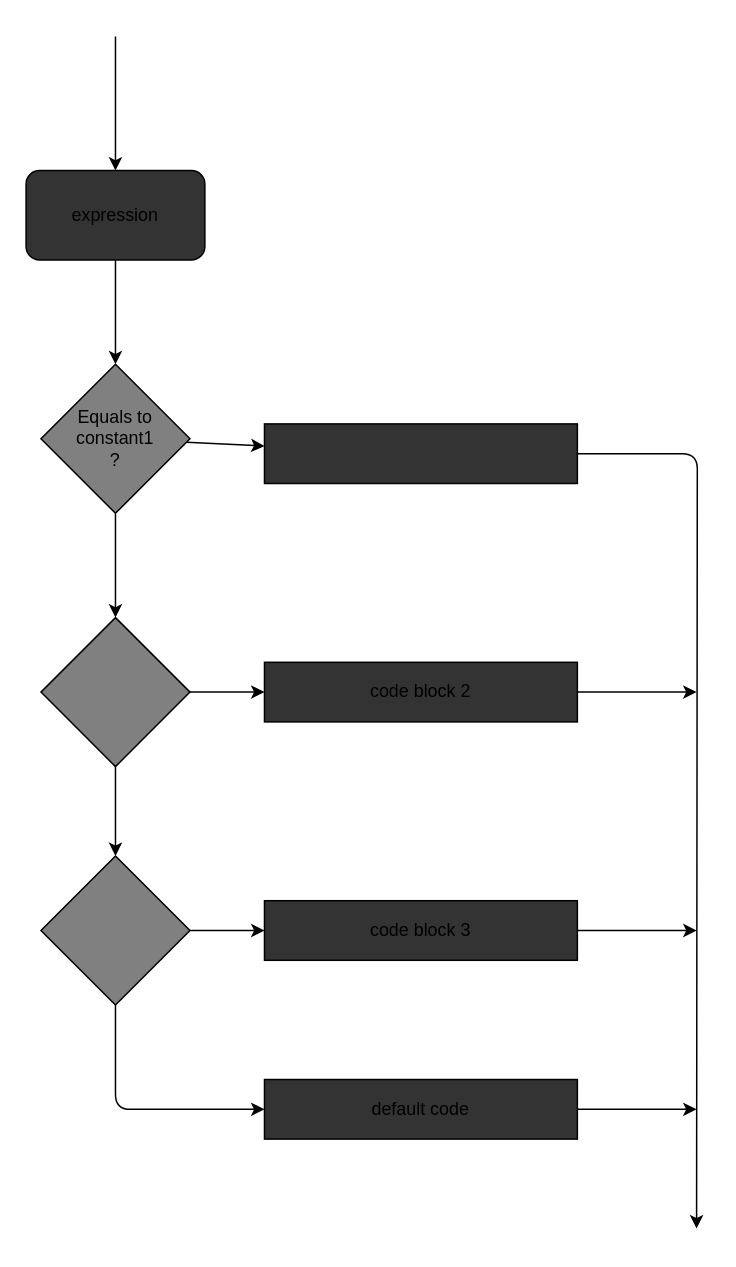
Some shapes in this 736 by 1267 pixel diagram are drawn without their labels. Here are the shapes that lost their labels. From the top down, the box of each, then its label:
(263, 422, 577, 484): code block 1
(39, 616, 190, 767): Equals to constant2 ?
(39, 855, 190, 1005): Equals to constant3 ?
